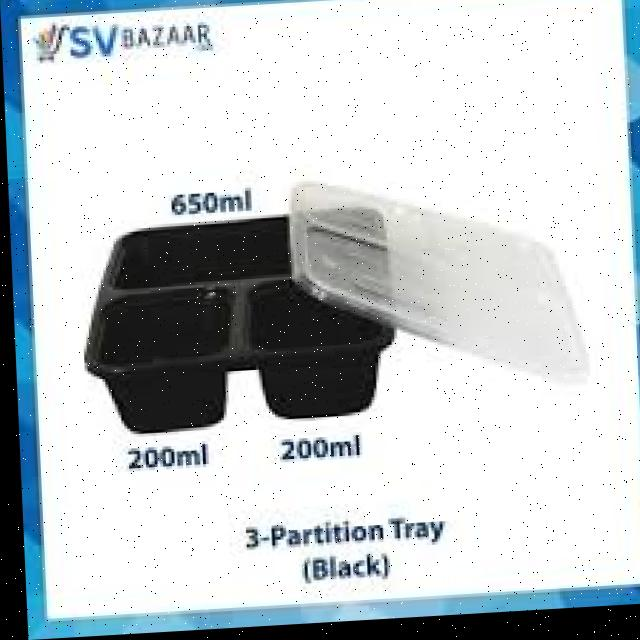disposable: (86, 197, 413, 446)
